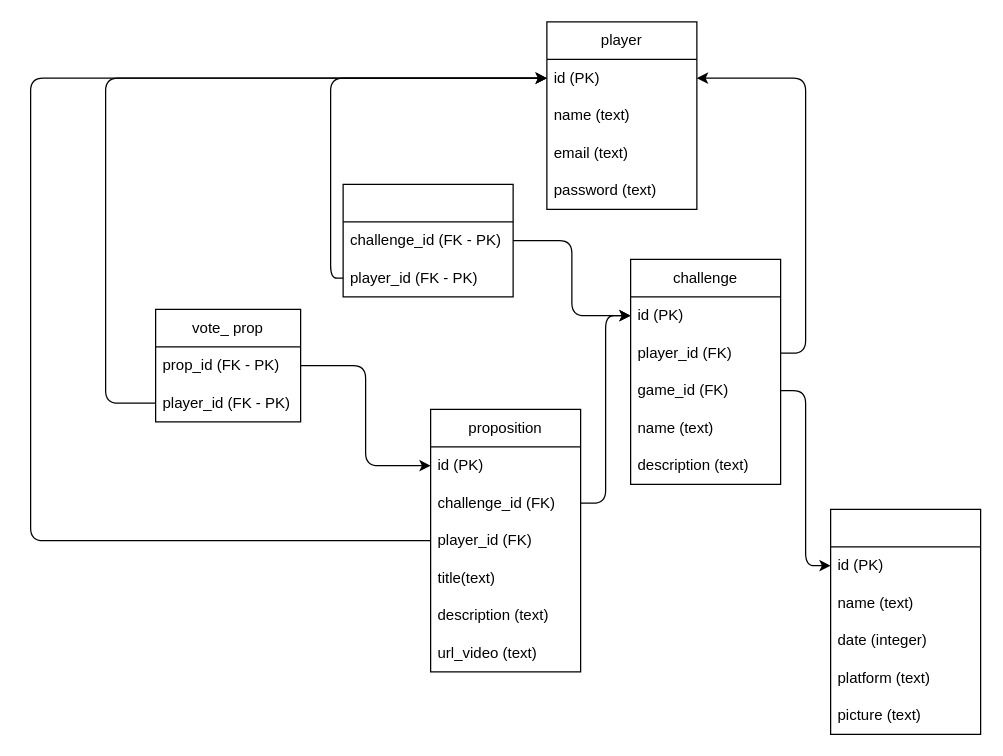
The diagram is 1003 pixels wide and 756 high, and some of its shapes have lost their labels. Each missing label, with the box of its shape:
game: (829, 508, 981, 734)
vote_ challenge: (342, 183, 513, 297)
